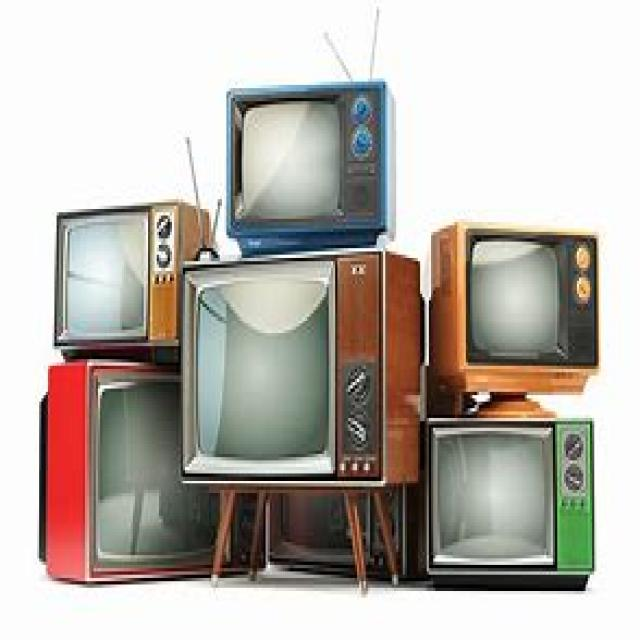tv: (179, 248, 420, 487), (37, 356, 263, 581), (426, 218, 598, 414), (420, 415, 594, 591), (224, 78, 396, 255), (52, 199, 214, 363)
